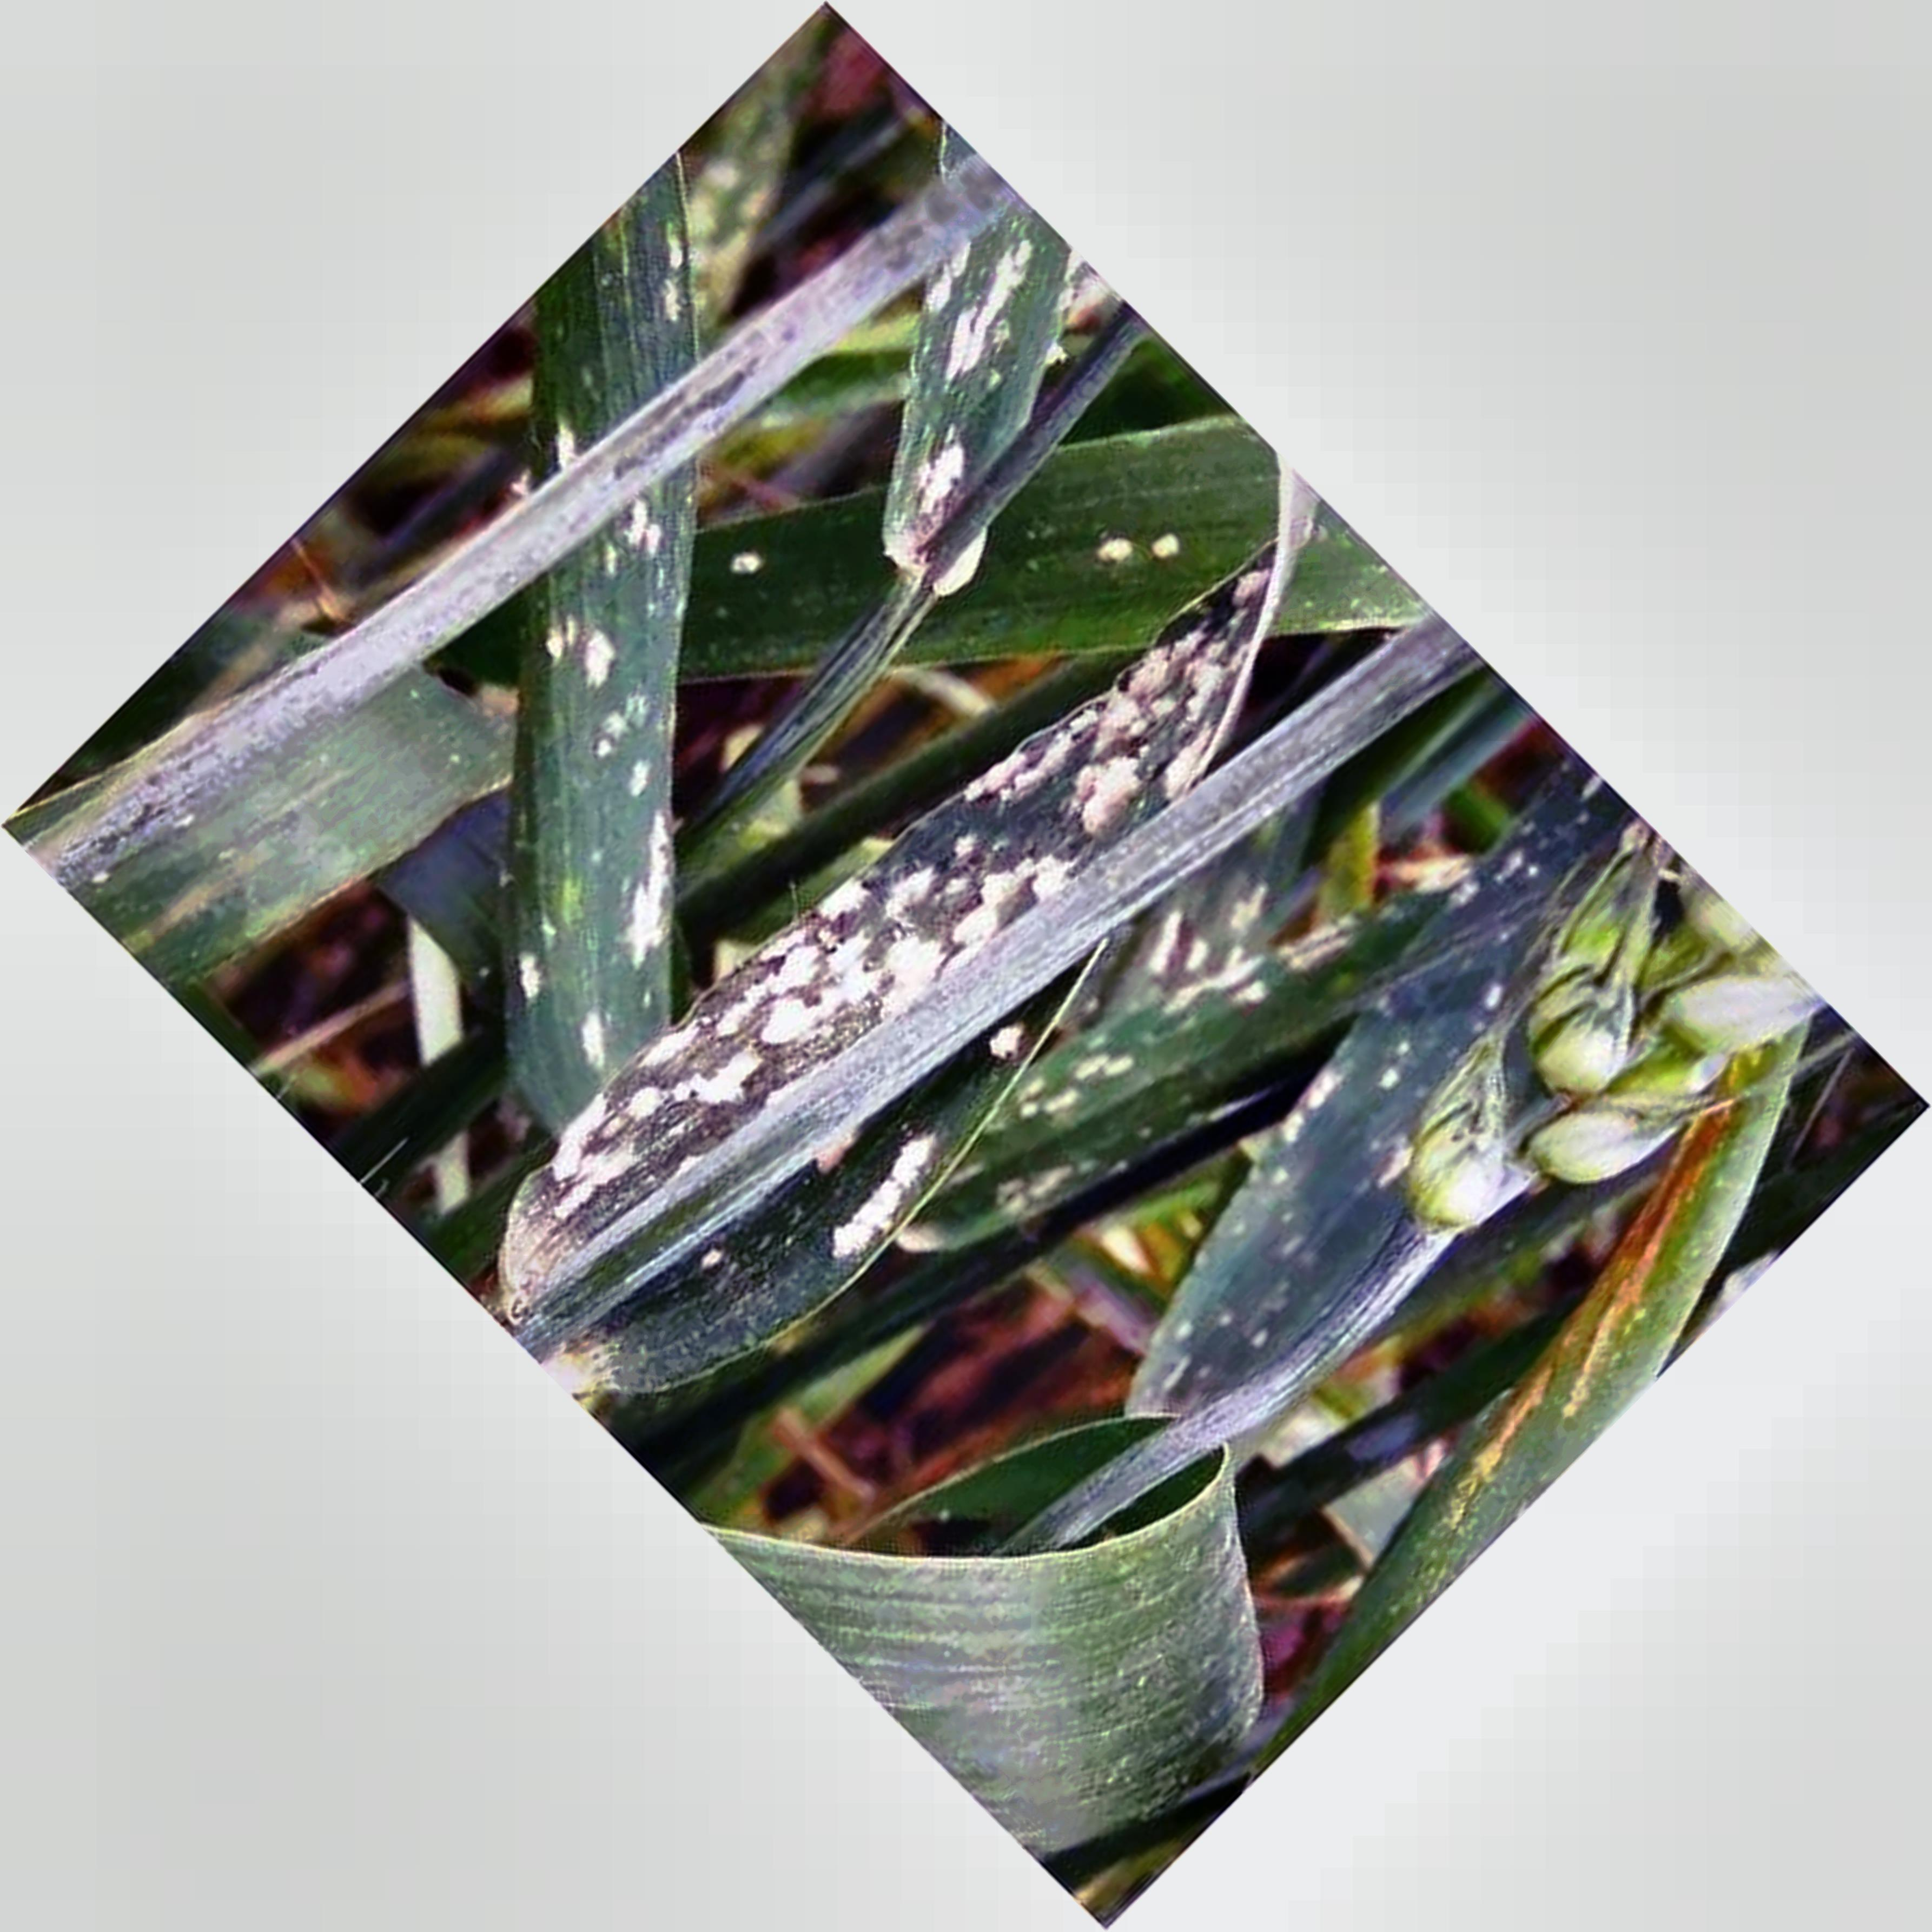Powdery Mildew: (536, 573, 1281, 1217)
